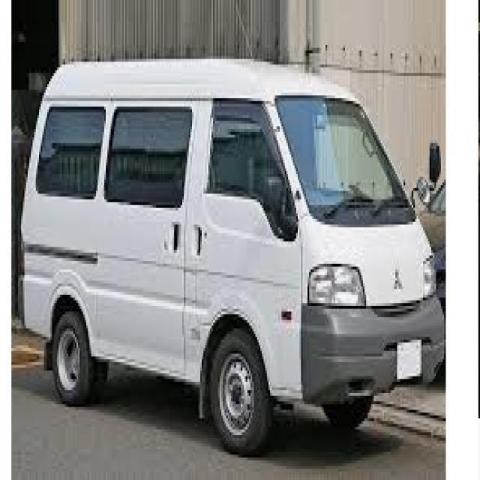van: (20, 53, 446, 457)
